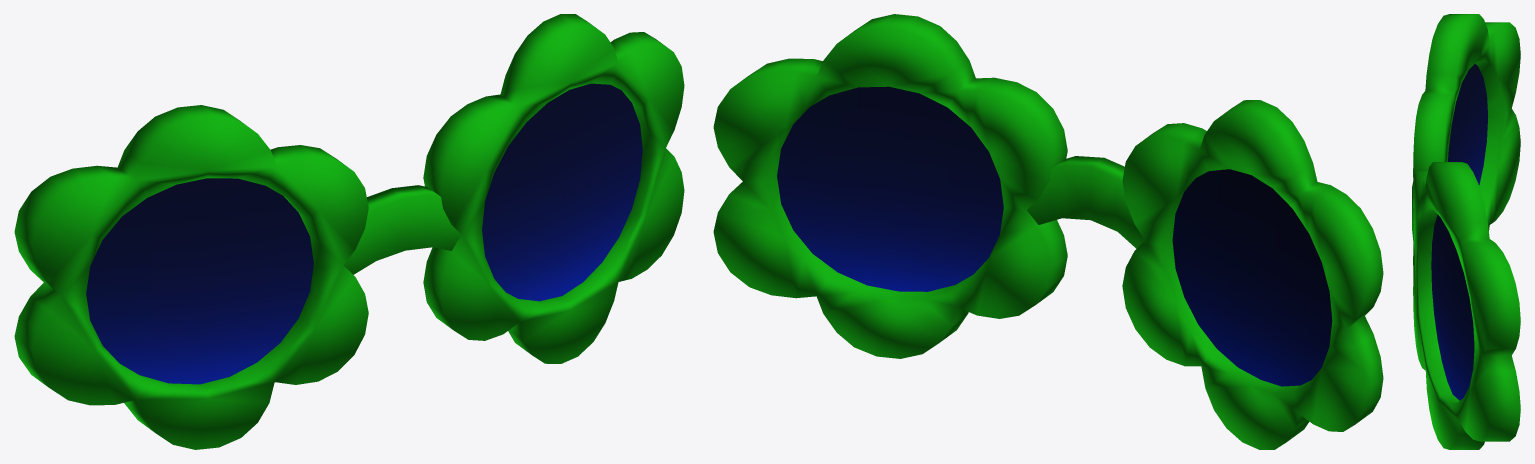
The model's file is AccessoryGlassFlower4.glb.
The picture shows the model from 3 angles, left to right: view 1: azimuth 30°, elevation 25°; view 2: azimuth 150°, elevation 25°; view 3: azimuth 270°, elevation 25°; orthographic projection. The views are drawn at different scales.
Visible parts, largest first — view 1: Accessory__mAccessory; view 2: Accessory__mAccessory; view 3: Accessory__mAccessory.
Part boxes in pixels (box(x1,y1,x2,y2)): Accessory__mAccessory: box(14, 14, 684, 449); Accessory__mAccessory: box(713, 14, 1383, 449); Accessory__mAccessory: box(1412, 14, 1520, 449).
Size of the model in its own units: 5.9 by 2.85 by 1.02.
Materials: 1 (1 with a texture image).
